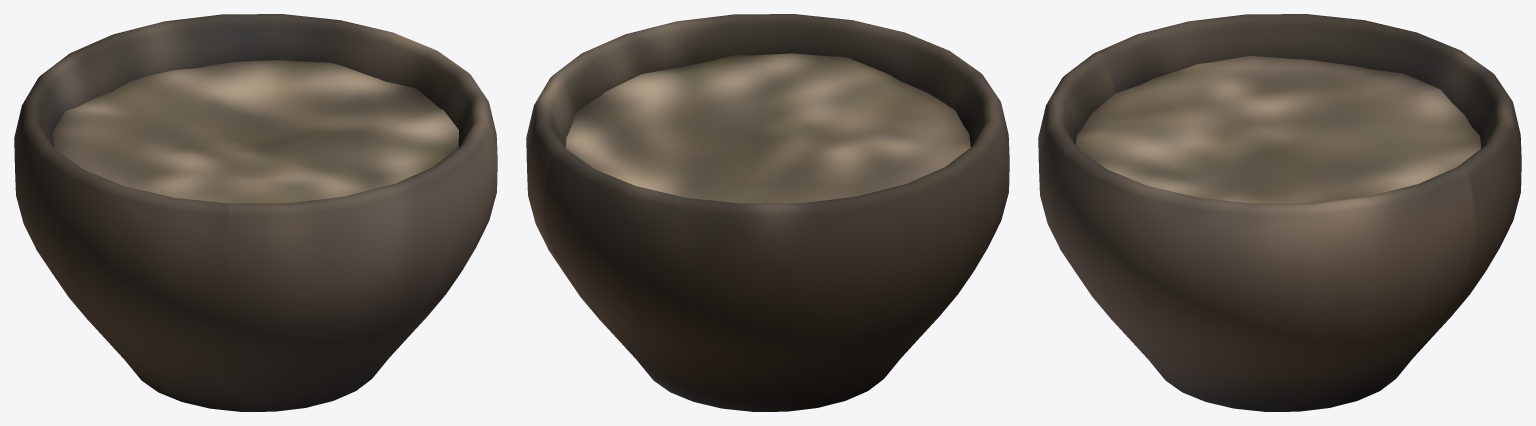
File: FlowerPot.001.gltf
3 views of the same model, side by side, from view 1: azimuth 30°, elevation 25°; view 2: azimuth 150°, elevation 25°; view 3: azimuth 270°, elevation 25° (orthographic).
Visible parts, largest first — view 1: FlowerPot.001; view 2: FlowerPot.001; view 3: FlowerPot.001.
Part boxes in pixels (x1,y1,x2,y2): FlowerPot.001: (14, 14, 497, 411); FlowerPot.001: (526, 14, 1009, 411); FlowerPot.001: (1038, 14, 1521, 411).
Bounding box in the file's own units: 0.2946 × 0.168 × 0.2946.
Materials: 2 (2 with a texture image).
